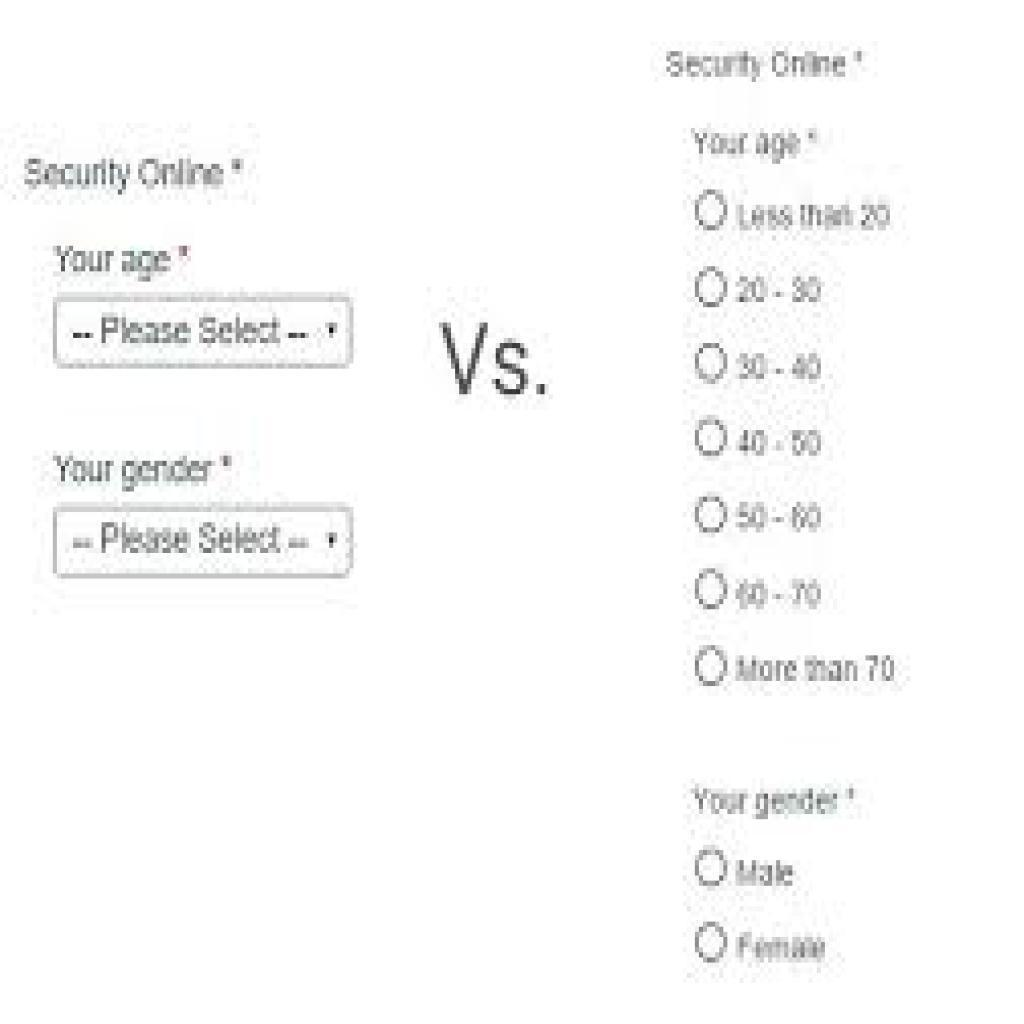dropdown: (53, 295, 354, 367), (55, 506, 352, 573)
label: (652, 34, 869, 92), (425, 315, 558, 403), (11, 153, 253, 196), (53, 442, 254, 492), (681, 781, 860, 824), (735, 193, 890, 237), (45, 242, 203, 285), (735, 651, 897, 692), (686, 122, 822, 164), (733, 925, 828, 967), (729, 494, 824, 534), (736, 576, 822, 617), (736, 345, 824, 384), (735, 421, 825, 459), (735, 270, 826, 307), (734, 856, 799, 890)
radio: (690, 338, 732, 388), (689, 412, 730, 462), (691, 916, 730, 965), (691, 565, 730, 612), (691, 643, 730, 689), (695, 844, 729, 894), (692, 490, 728, 537), (691, 191, 730, 233), (694, 264, 729, 310)
